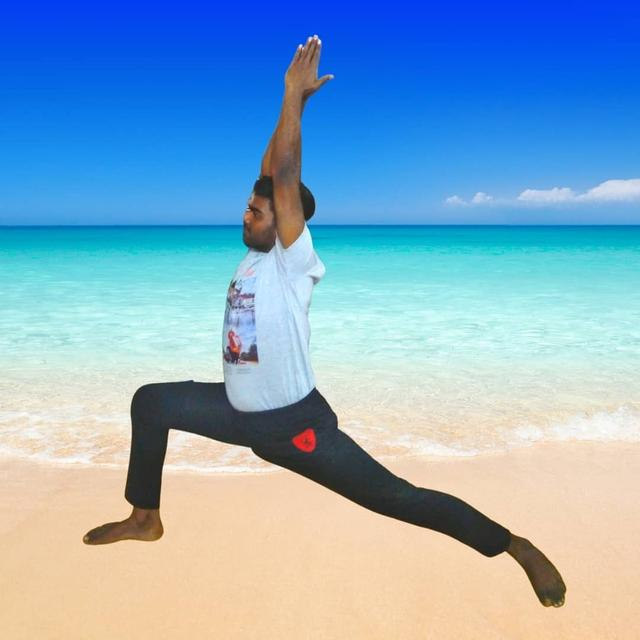Warrior_I: (76, 26, 576, 613)
